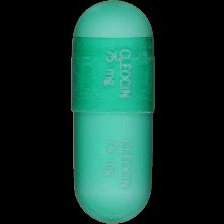0009-0331: (0, 0, 224, 224)
